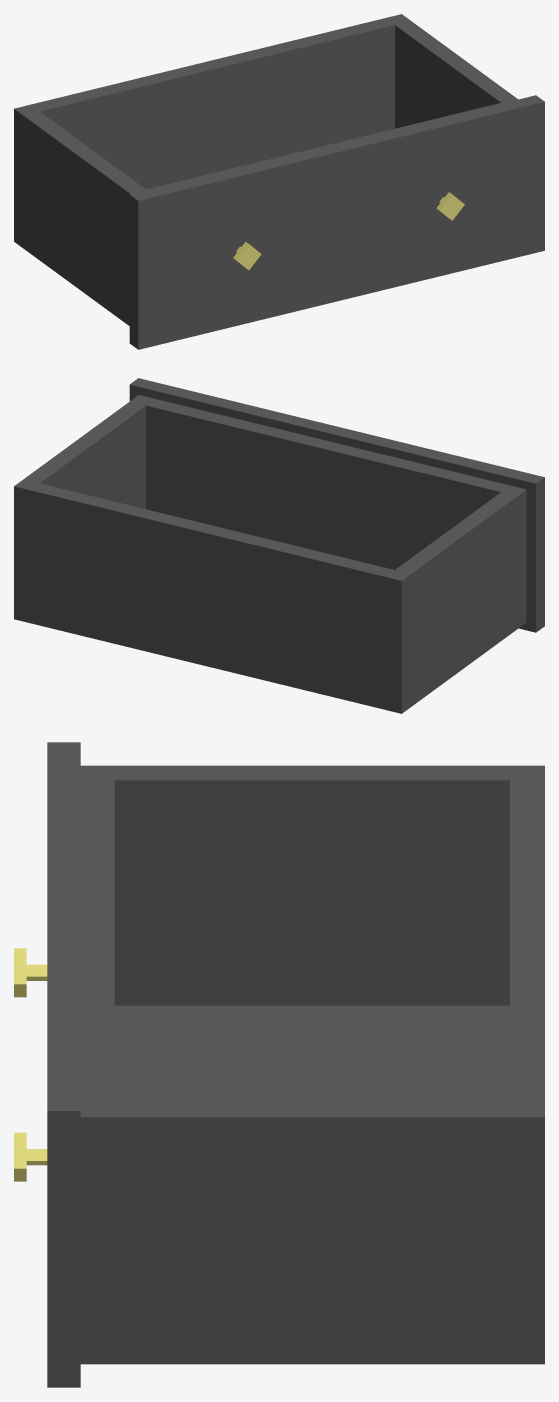
File: Itr_Wardrobe3_Drawer_04.FBX
3 renders of one model, top to bottom at view 1: azimuth 30°, elevation 25°; view 2: azimuth 150°, elevation 25°; view 3: azimuth 270°, elevation 25°, orthographic. The views are drawn at different scales.
Parts seen in each view (by area): view 1: Itr_Wardrobe3_Drawer_04; view 2: Itr_Wardrobe3_Drawer_04; view 3: Itr_Wardrobe3_Drawer_04.
Part boxes in pixels (x1,y1,x2,y2): Itr_Wardrobe3_Drawer_04: (14, 14, 544, 349); Itr_Wardrobe3_Drawer_04: (14, 378, 544, 713); Itr_Wardrobe3_Drawer_04: (14, 742, 544, 1387).
Bounding box in the file's own units: 40.83 × 14.3 × 24.85.
